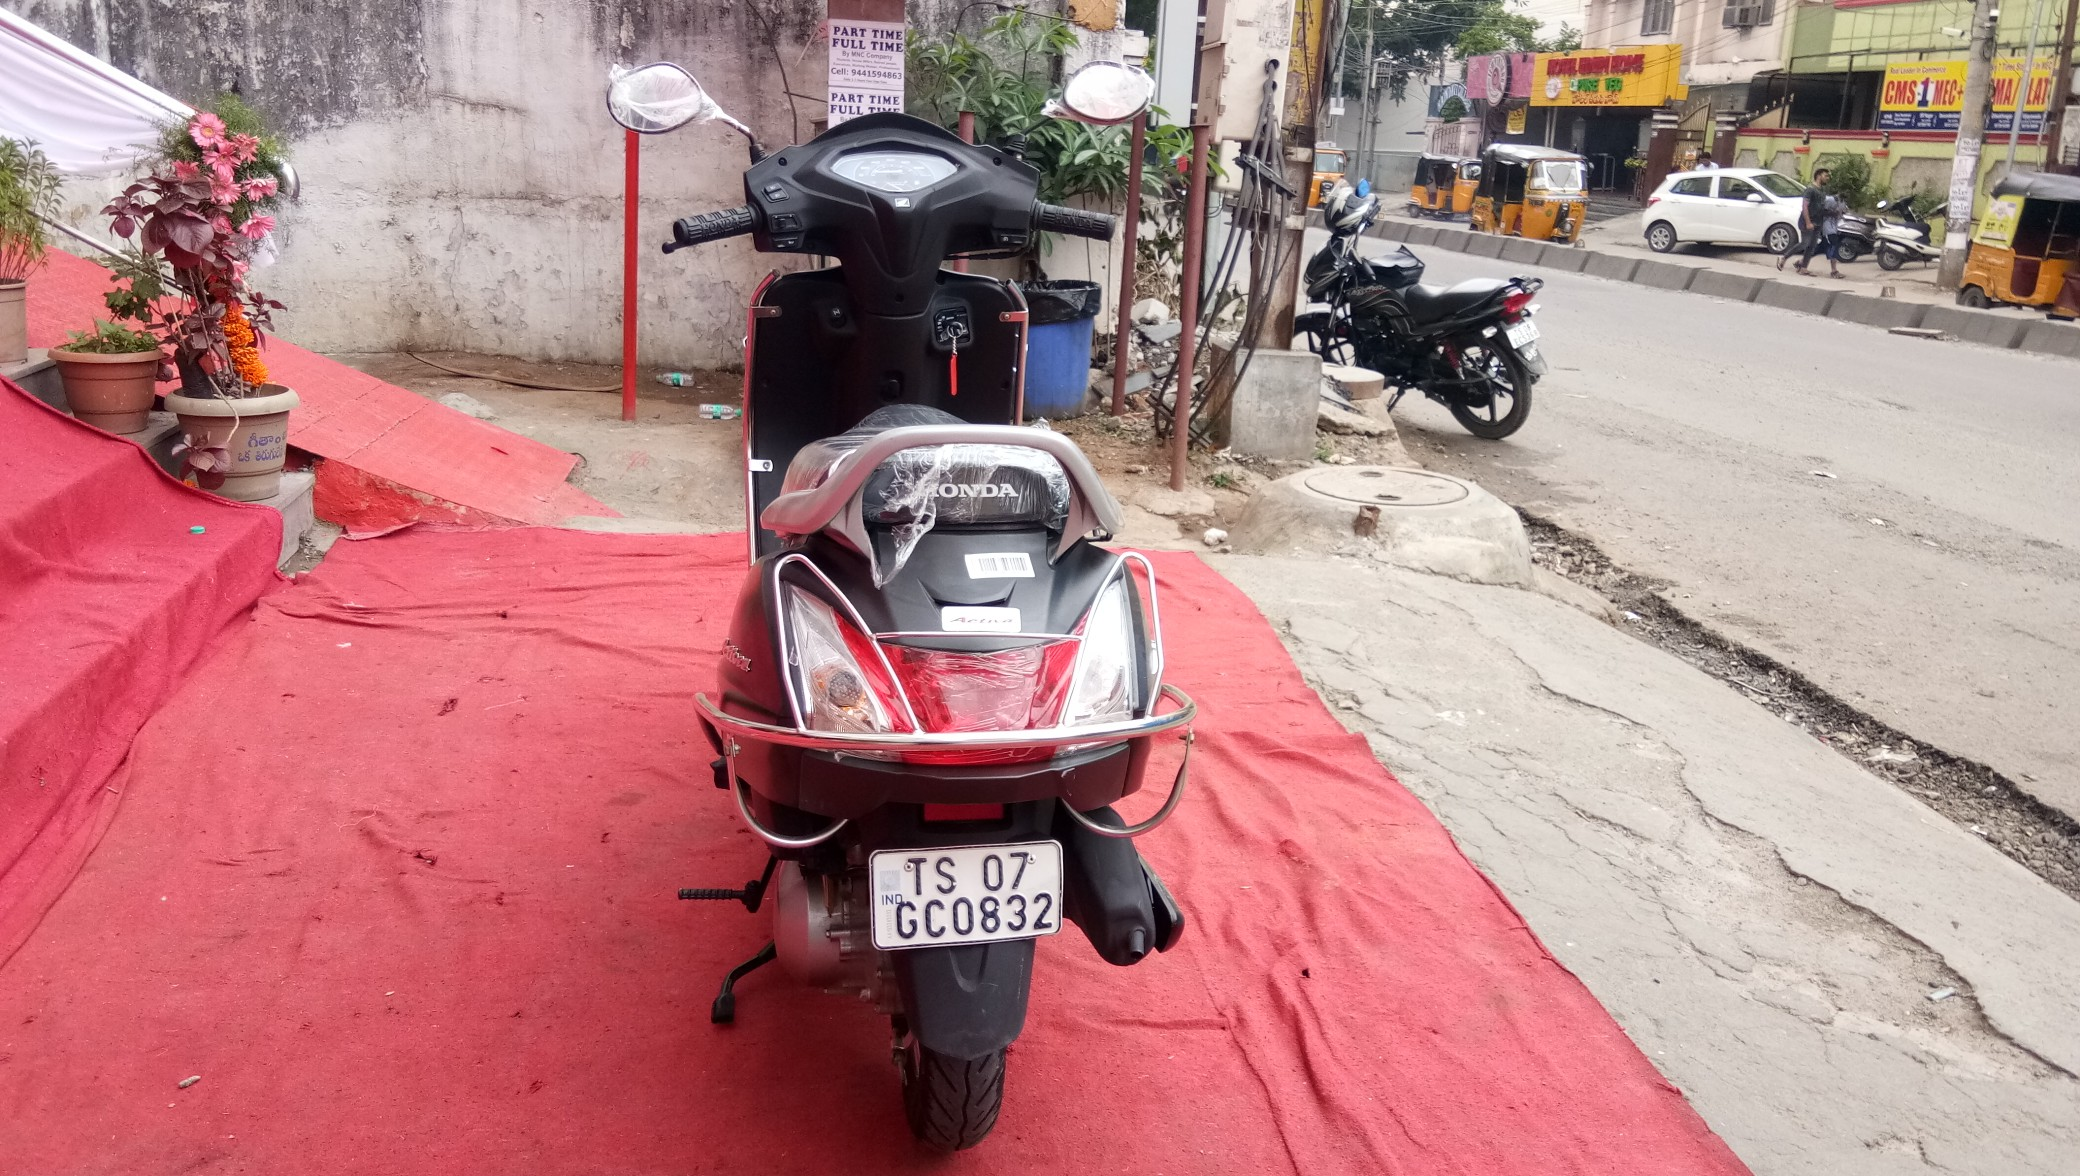doublelinenumberplate: (863, 840, 1081, 949)
